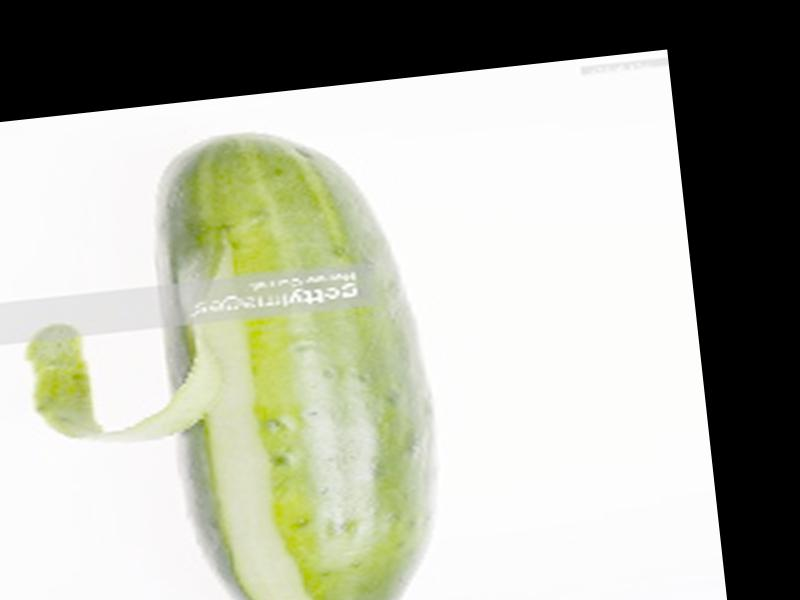Cucumber: (138, 115, 453, 600)
